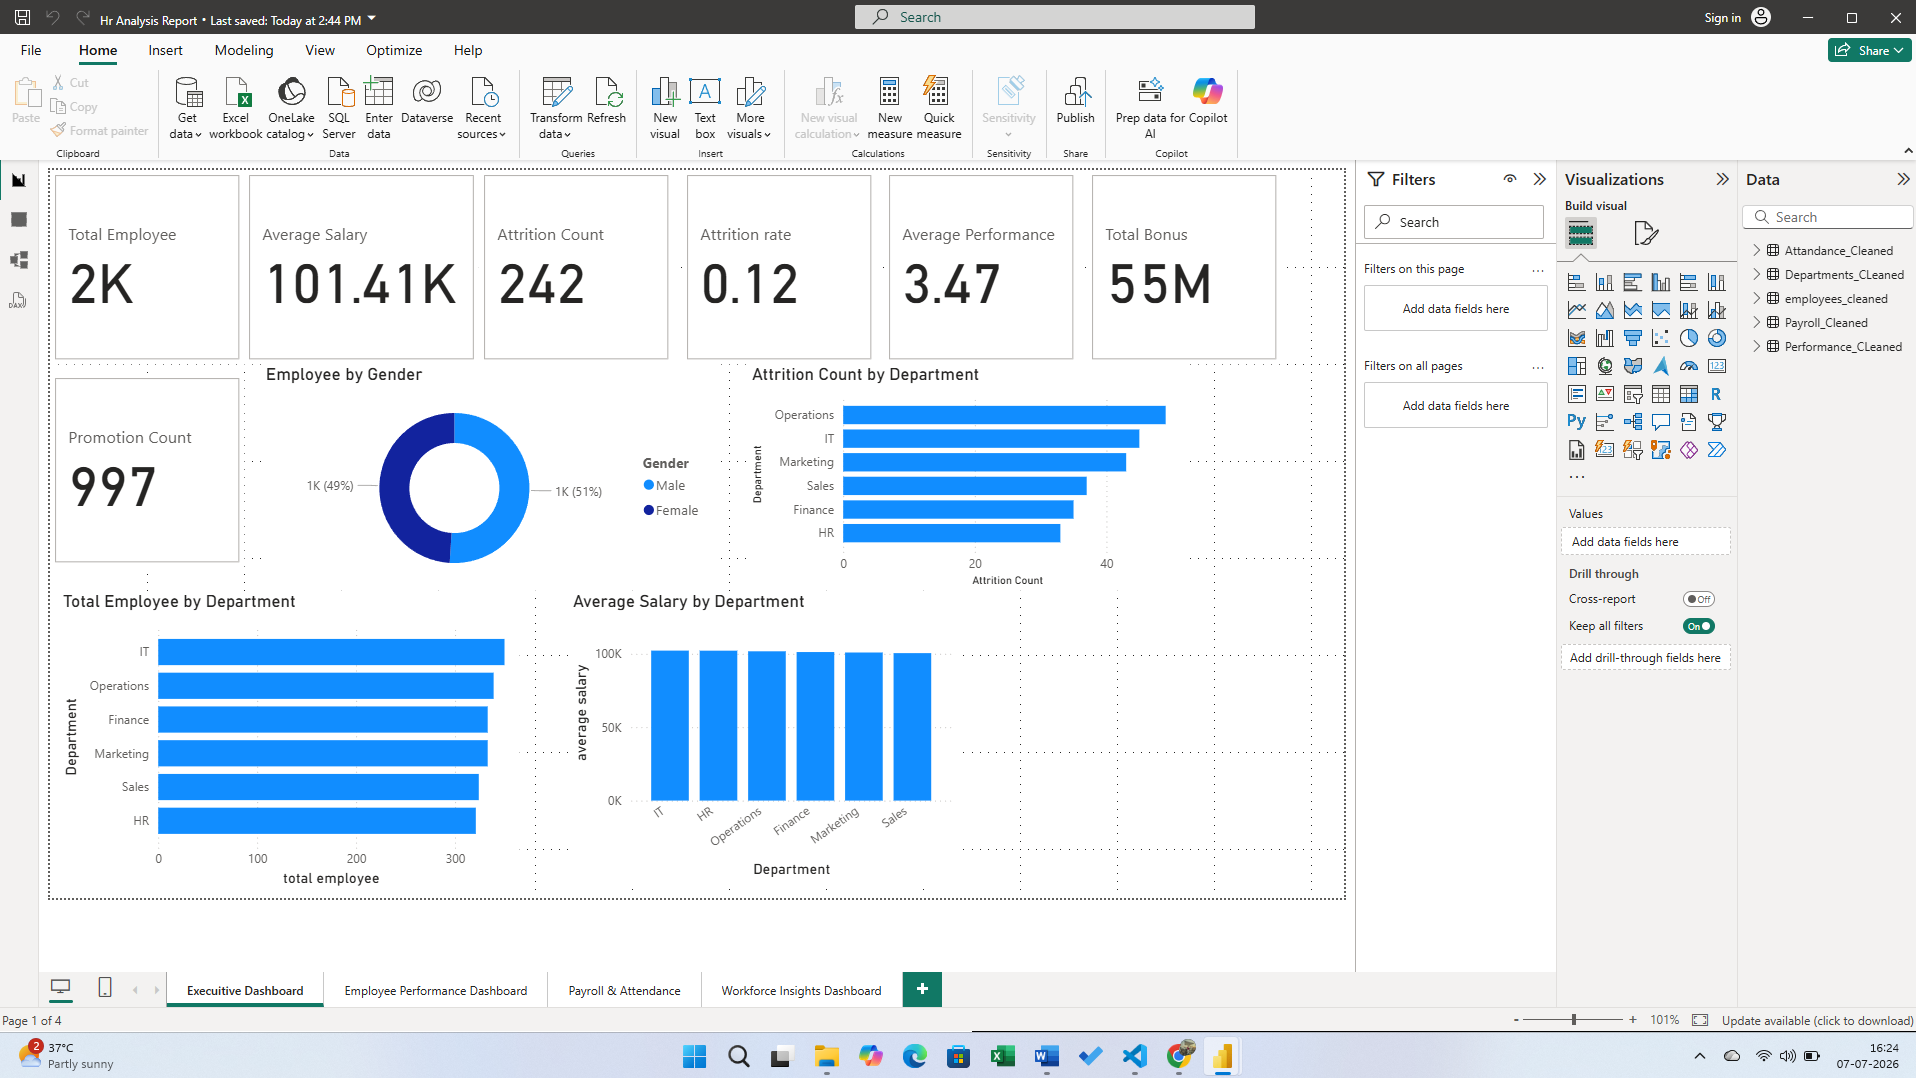

The dashboard page shown, as its layout file describes it:
{"tool":"powerbi","page":{"name":"Execuitive Dashboard","canvas":[1280,720],"ordinal":0},"visuals":[{"type":"cardVisual","fields":{"Data":["Attandance_Cleaned.total employee"]},"box":[0,0,192,192],"z":0},{"type":"cardVisual","fields":{"Data":["Attandance_Cleaned.average salary"]},"box":[192,0,232,192],"z":1},{"type":"cardVisual","fields":{"Data":["Attandance_Cleaned.Attrition Count"]},"box":[424,0,192,192],"z":2},{"type":"cardVisual","fields":{"Data":["Attandance_Cleaned.attrition rate"]},"box":[624,0,192,192],"z":3},{"type":"cardVisual","fields":{"Data":["Attandance_Cleaned.average performance"]},"box":[824,0,192,192],"z":4},{"type":"cardVisual","fields":{"Data":["Attandance_Cleaned.total bonus"]},"box":[1024,0,192,192],"z":5},{"type":"cardVisual","fields":{"Data":["Attandance_Cleaned.promotion count"]},"box":[0,200,192,192],"z":6},{"type":"barChart","title":"Total Employee by Department","fields":{"Category":["Departments_CLeaned.Department"],"Y":["Attandance_Cleaned.total employee"]},"box":[8,416,456,296],"z":7},{"type":"donutChart","title":"Employee by Gender","fields":{"Category":["employees_cleaned.Gender"],"Y":["Attandance_Cleaned.total employee"]},"box":[208,192,448,224],"z":8},{"type":"columnChart","title":"Average Salary by Department","fields":{"Category":["Departments_CLeaned.Department"],"Y":["Attandance_Cleaned.average salary"]},"box":[512,416,384,288],"z":9},{"type":"barChart","fields":{"Category":["Departments_CLeaned.Department"],"Y":["Attandance_Cleaned.Attrition Count"]},"box":[688,192,432,224],"z":10}]}

Visuals, with their boxes on the page's 1280x720 design canvas (x1, y1, x2, y2). These are canvas units, not pixel positions in the 1916x1078 screenshot, which may show the page scaled, cropped or inside an application window:
cardVisual - Attandance_Cleaned.total employee: locate(0, 0, 192, 192)
cardVisual - Attandance_Cleaned.average salary: locate(192, 0, 424, 192)
cardVisual - Attandance_Cleaned.Attrition Count: locate(424, 0, 616, 192)
cardVisual - Attandance_Cleaned.attrition rate: locate(624, 0, 816, 192)
cardVisual - Attandance_Cleaned.average performance: locate(824, 0, 1016, 192)
cardVisual - Attandance_Cleaned.total bonus: locate(1024, 0, 1216, 192)
cardVisual - Attandance_Cleaned.promotion count: locate(0, 200, 192, 392)
"Total Employee by Department" barChart: locate(8, 416, 464, 712)
"Employee by Gender" donutChart: locate(208, 192, 656, 416)
"Average Salary by Department" columnChart: locate(512, 416, 896, 704)
barChart - Departments_CLeaned.Department x Attandance_Cleaned.Attrition Count: locate(688, 192, 1120, 416)
